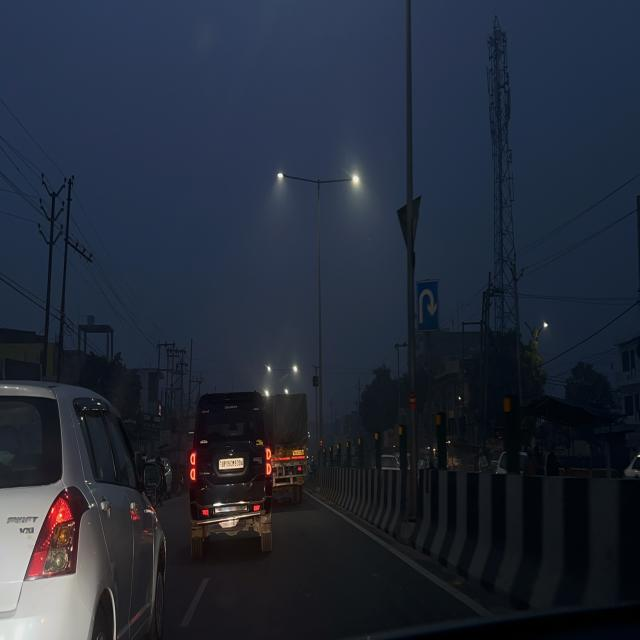U_TURN: (415, 278, 441, 334)
